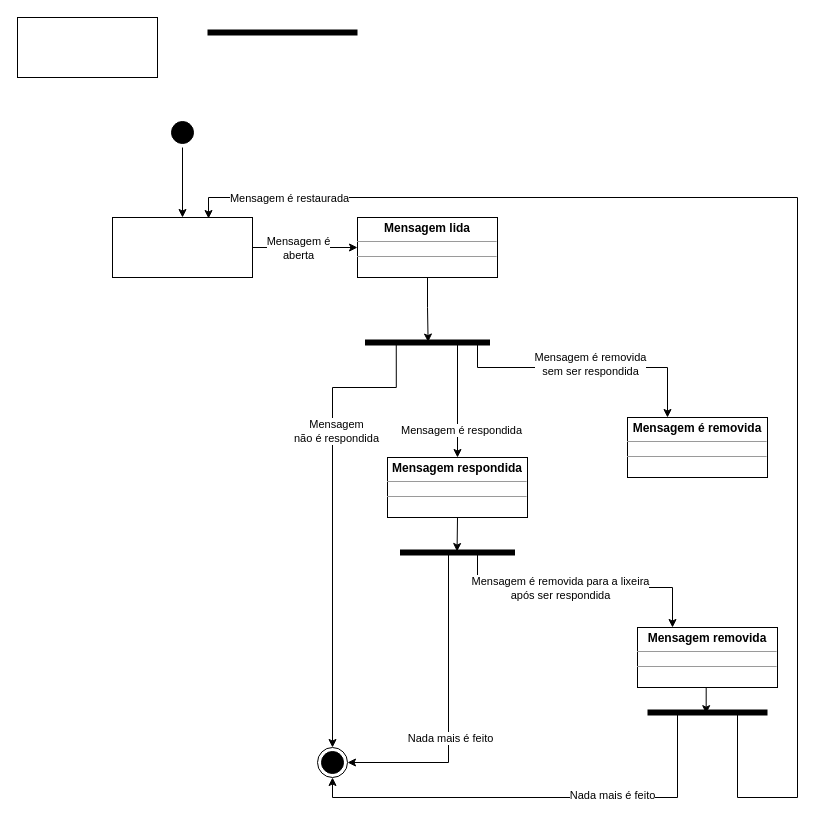
The diagram is 823 pixels wide and 823 high, and some of its shapes have lost their labels. The centre of each missing label's shape, as x and y in pixels:
Class: point (87, 47)
Mensagem recebida: point (182, 247)
